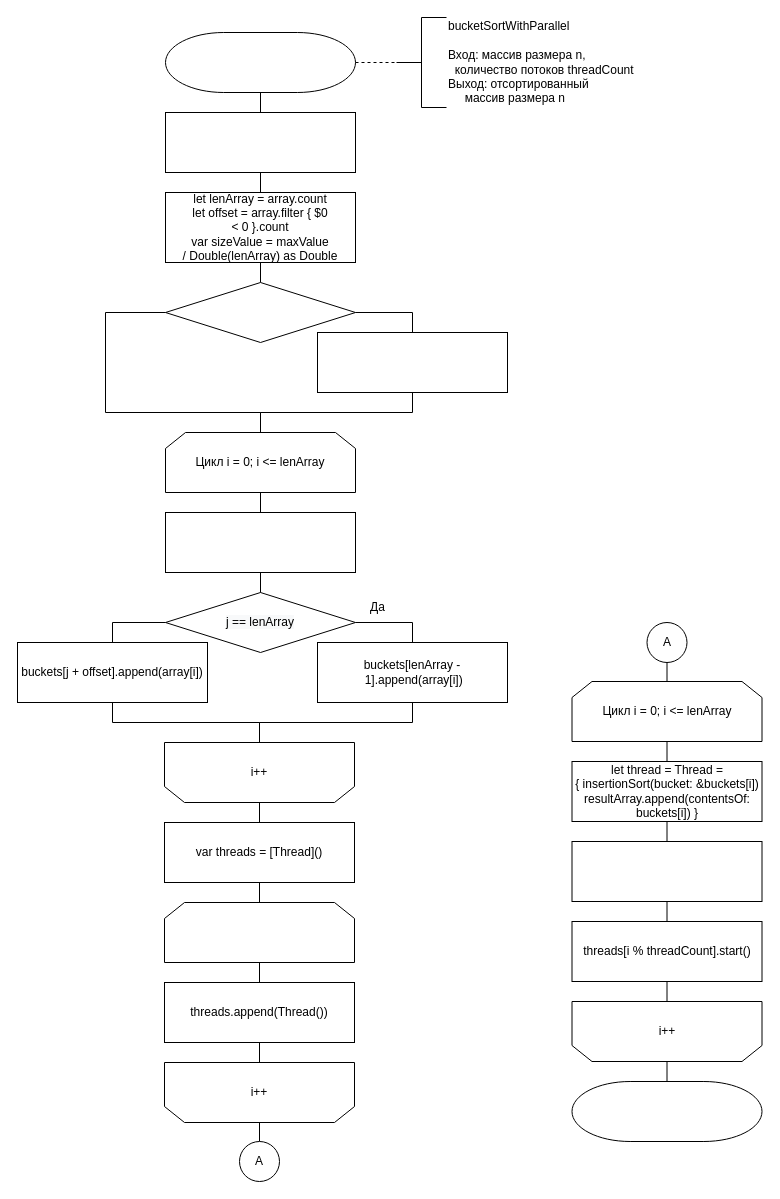
Some shapes in this 780 by 1199 pixel diagram are drawn without their labels. The shapes that lost their labels are listed below. From the top down, each one's box as (x1, y1, x2, y2) in pixels, then its label:
(164, 32, 356, 92): Начало
(164, 112, 356, 172): var resultArray: [ Double ] = [] var buckets: [[ Double ]] = []
(164, 282, 356, 342): minValue < 0
(316, 332, 508, 392): sizeValue = maxValue + (-minValue) / Double (lenArray) as Double
(164, 512, 356, 572): let j = Int (array[i] / sizeValue)
(571, 840, 762, 902): threads[i % threadCount] = thread
(164, 902, 354, 962): Цикл i = 0; i <= threadCount
(571, 1080, 762, 1142): Конец
